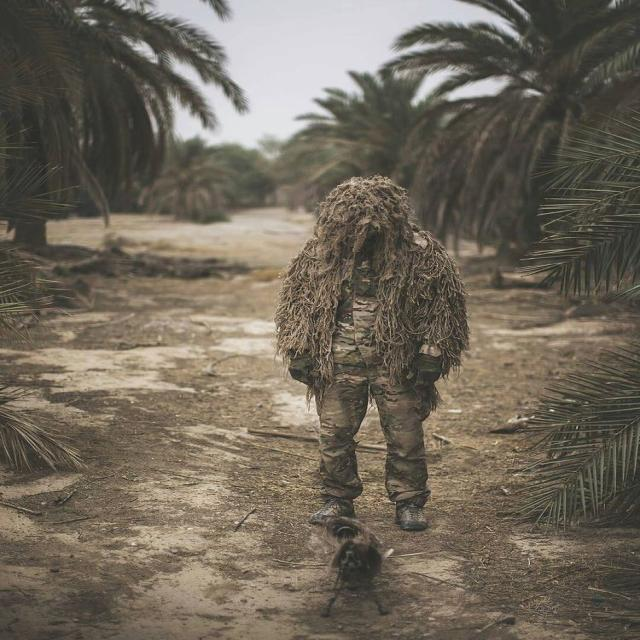Human: (277, 175, 467, 534)
